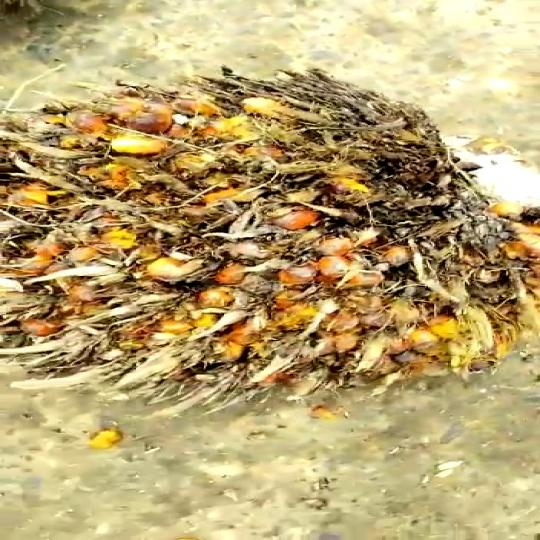terlalu masak: (0, 60, 540, 442)
